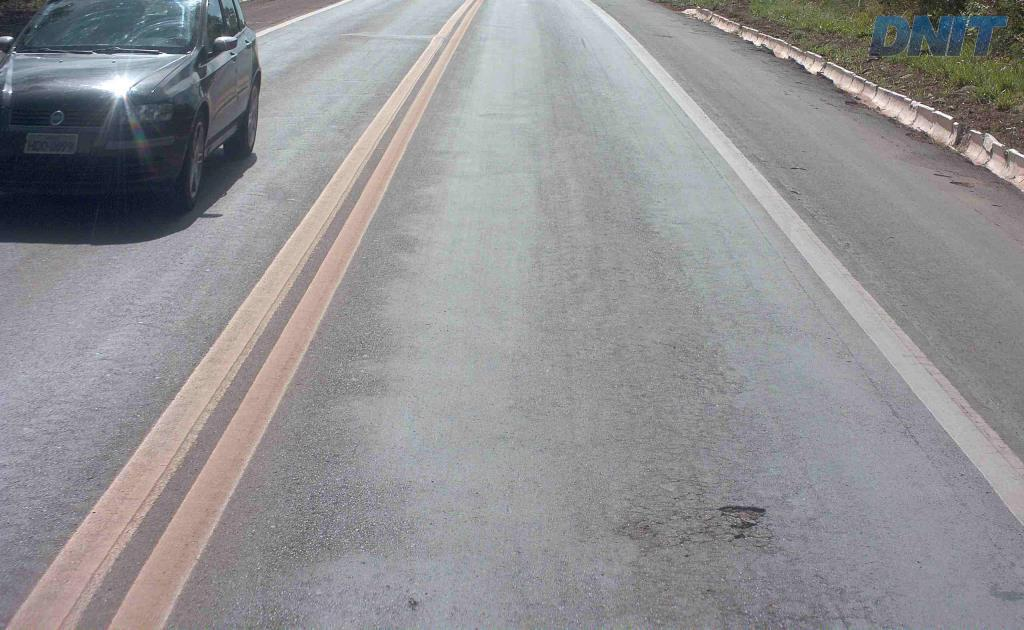crack: (715, 503, 771, 543)
pothole: (713, 493, 776, 539)
